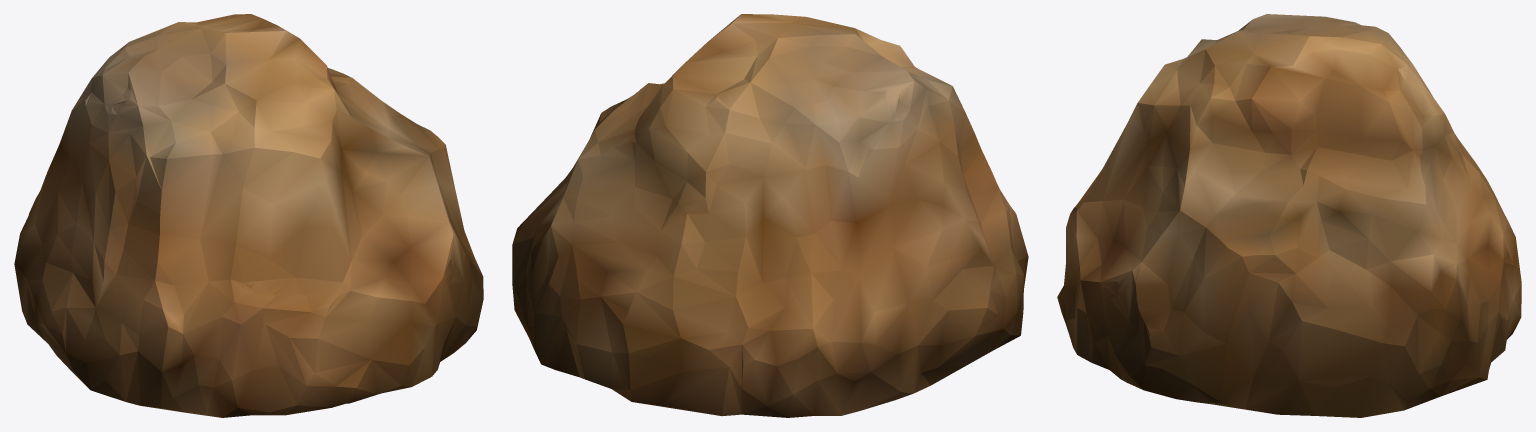
File: rock.glb
The picture shows the model from 3 angles, left to right: view 1: azimuth 30°, elevation 25°; view 2: azimuth 150°, elevation 25°; view 3: azimuth 270°, elevation 25°; orthographic projection. The views are drawn at different scales.
Visible parts, largest first — view 1: world; view 2: world; view 3: world.
Boxes of the visible parts, x1,y1,x2,y2 form: world: (14, 14, 483, 417); world: (512, 14, 1028, 417); world: (1057, 14, 1521, 417).
Size of the model in its own units: 0.9943 by 0.6641 by 1.
